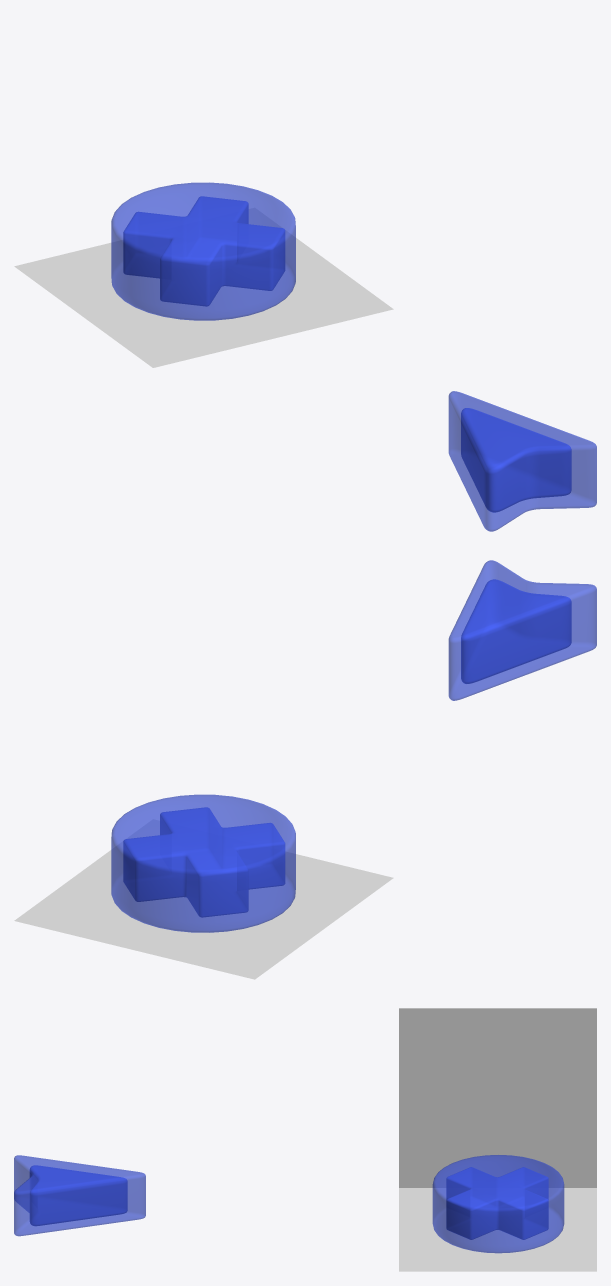
File: Navigation Arrow(Circle).glb
3 renders of one model, top to bottom at view 1: azimuth 30°, elevation 25°; view 2: azimuth 150°, elevation 25°; view 3: azimuth 270°, elevation 25°, orthographic. The views are drawn at different scales.
Parts seen in each view (by area): view 1: Cylinder, Plane, Navigation Arrow; view 2: Cylinder, Plane, Navigation Arrow; view 3: Plane.001, Plane, Cylinder, Navigation Arrow.
Boxes of the visible parts, bbox=[...] form: Cylinder: bbox=[111, 182, 295, 320]; Plane: bbox=[14, 208, 393, 367]; Navigation Arrow: bbox=[448, 391, 596, 531]; Cylinder: bbox=[111, 794, 295, 932]; Plane: bbox=[14, 819, 393, 979]; Navigation Arrow: bbox=[448, 560, 596, 700]; Plane.001: bbox=[399, 1008, 596, 1187]; Plane: bbox=[399, 1188, 596, 1271]; Cylinder: bbox=[432, 1155, 564, 1253]; Navigation Arrow: bbox=[14, 1155, 145, 1236].
Bounding box in the file's own units: 2 × 2 × 5.89.
